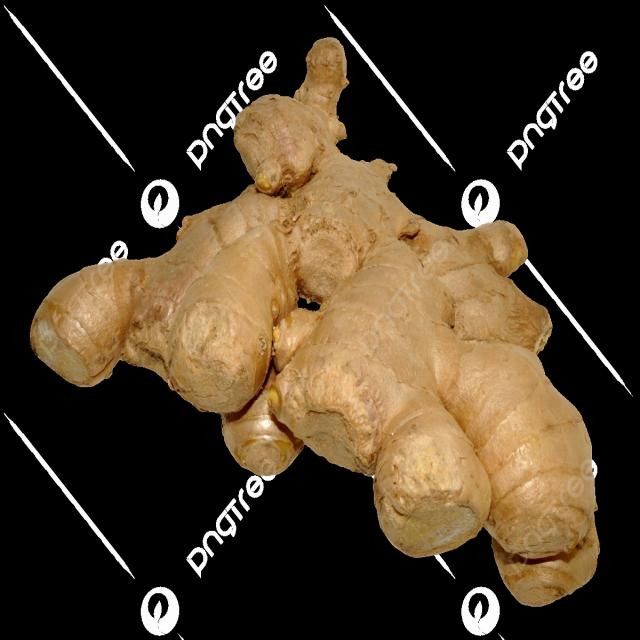ginger-root: (24, 26, 604, 612)
